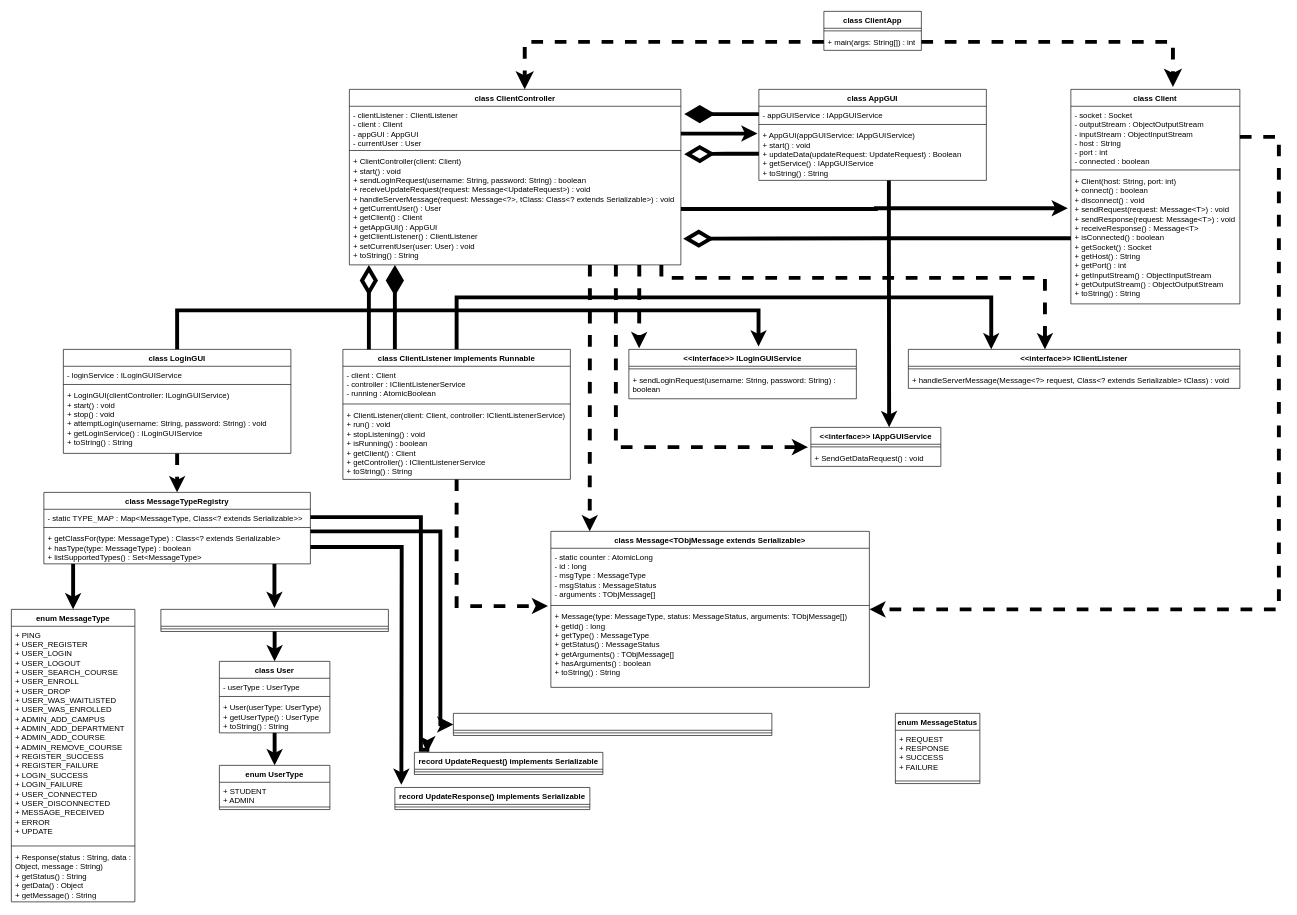
This 1297x915 diagram has some shape labels left out. The shapes that lost their labels are listed below. From the top down, each one's centre as x and y in pixels, then its label:
At point (274, 620): "record LoginResponse(user: User) implements Serializable".
At point (612, 724): "record LoginRequest(username: String, password: String) implements Serializable".
